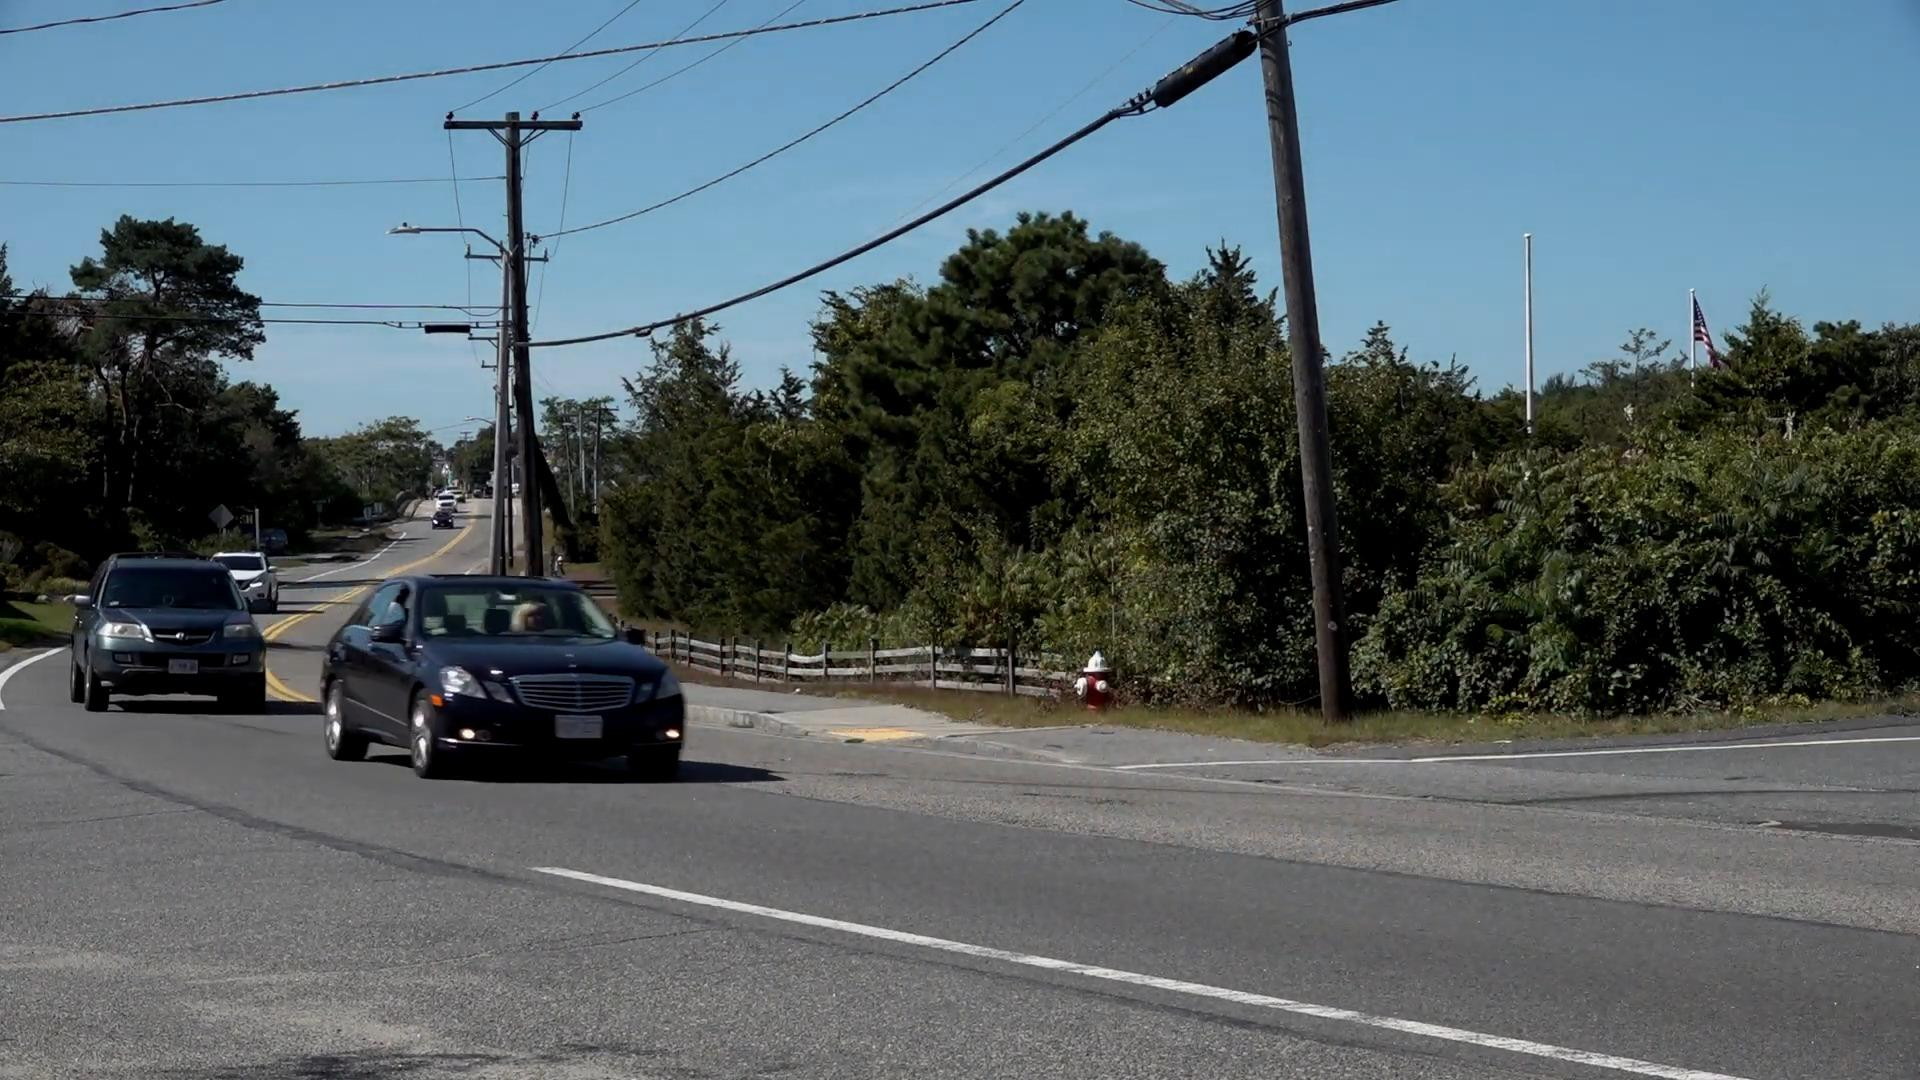sedans: (325, 573, 685, 778)
suv: (77, 555, 267, 712)
